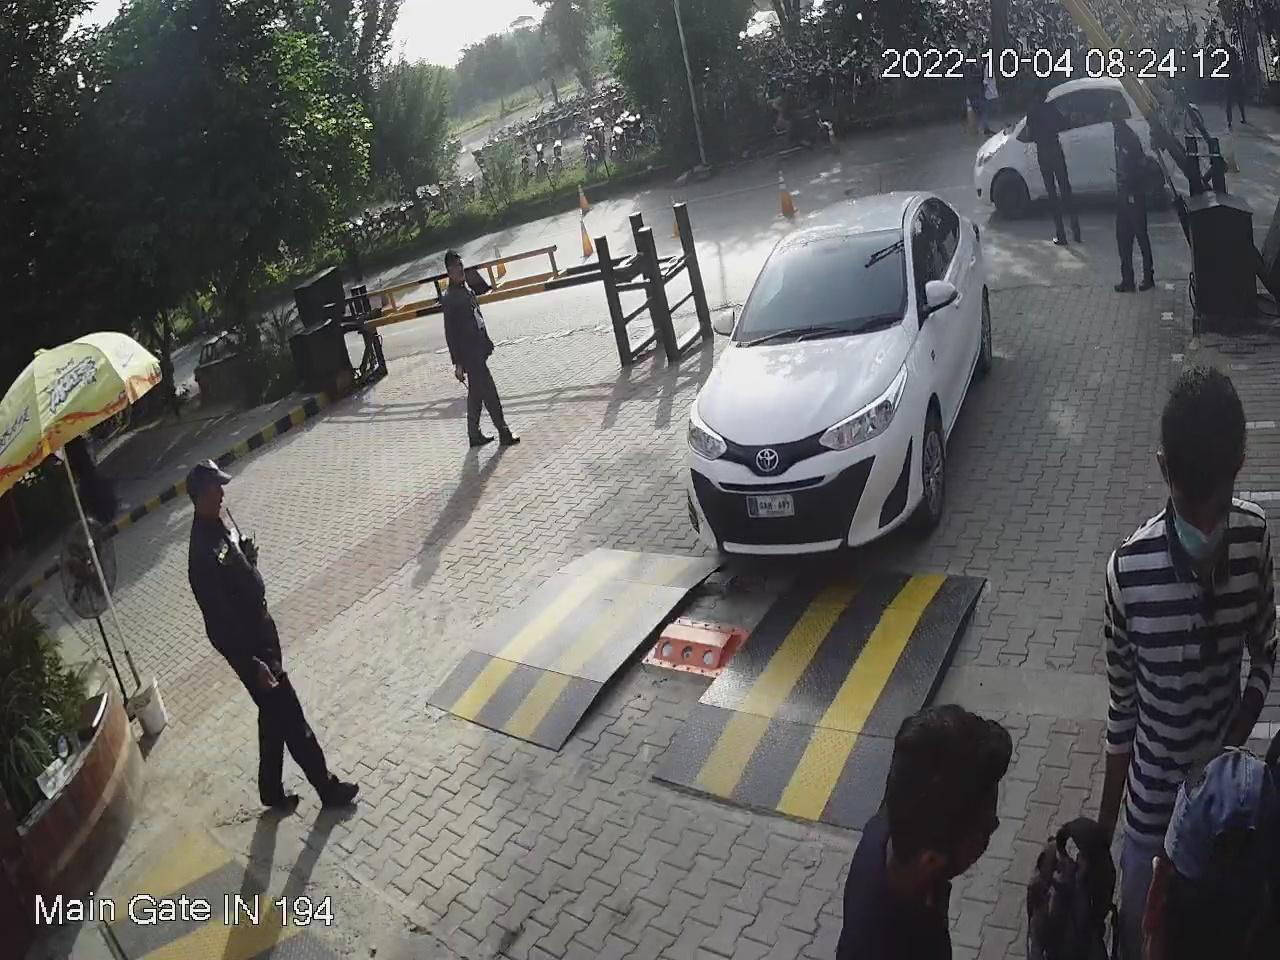windshield: (723, 223, 910, 345)
